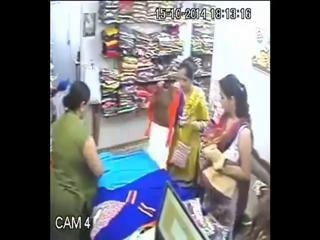Normal: (198, 74, 254, 240), (50, 80, 104, 239), (166, 60, 210, 186)
